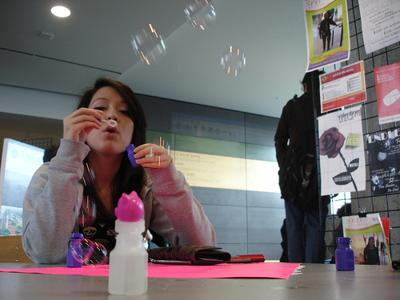person: (21, 75, 218, 271)
